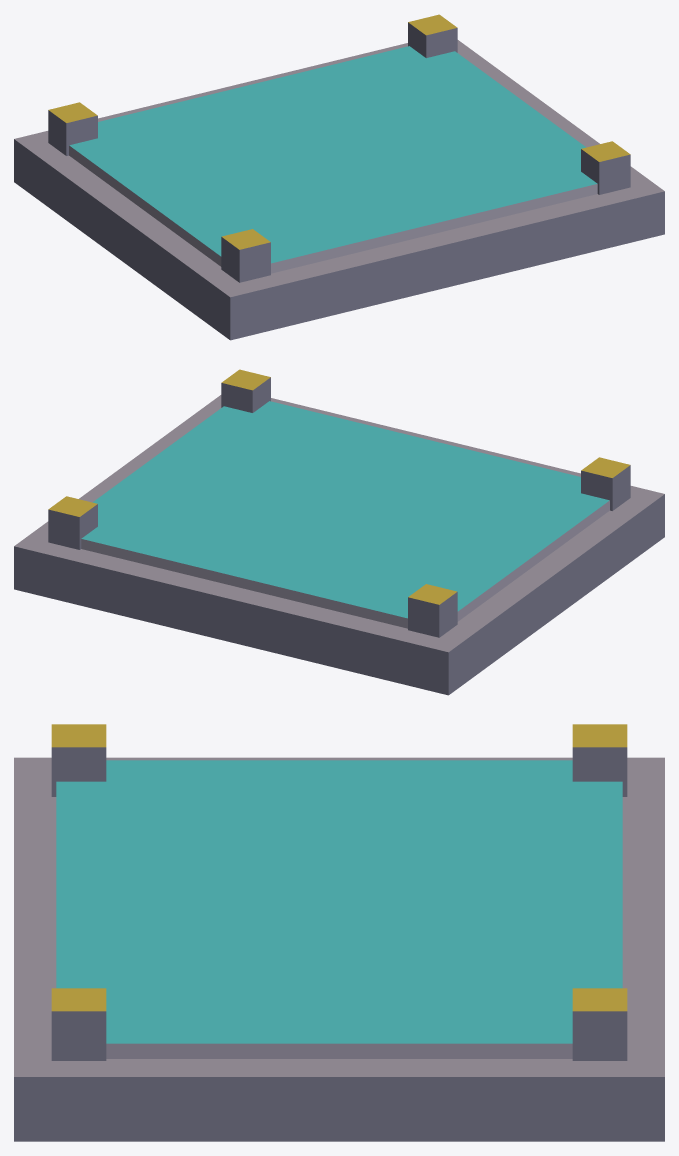
The model's file is star_garden_gimmick_platform.obj.
The picture shows the model from 3 angles, top to bottom: view 1: azimuth 30°, elevation 25°; view 2: azimuth 150°, elevation 25°; view 3: azimuth 270°, elevation 25°; orthographic projection. The views are drawn at different scales.
Visible parts, largest first — view 1: star_garden_gimmick_platform; view 2: star_garden_gimmick_platform; view 3: star_garden_gimmick_platform.
Part boxes in pixels (x1,y1,x2,y2): star_garden_gimmick_platform: (14,14,664,340); star_garden_gimmick_platform: (14,369,664,695); star_garden_gimmick_platform: (14,724,664,1141).
Bounding box in the file's own units: 11.6 × 1.94 × 10.
